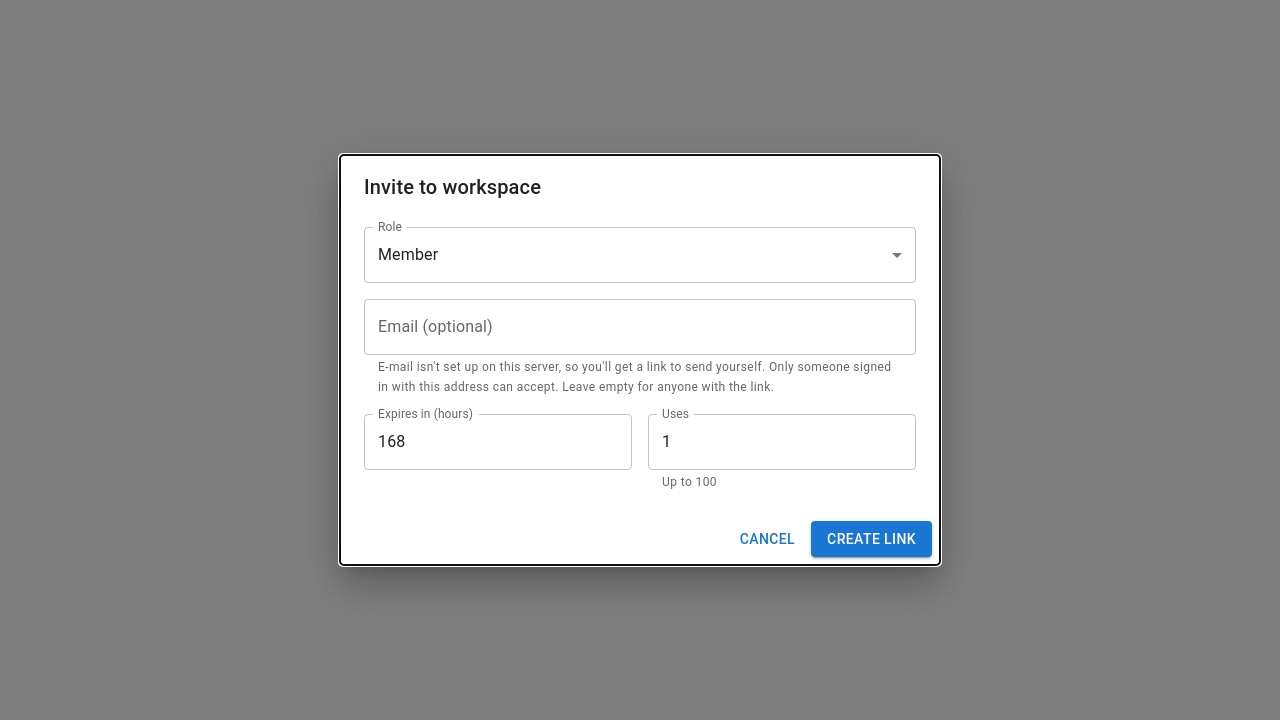
Test: CreateInvitationDialog › says nothing was sent when the server has no mail, and shows the link
Type "bo@example.com" into the field labelled "Email (optional)" at (640, 327), box left=364, top=299, right=916, bottom=355
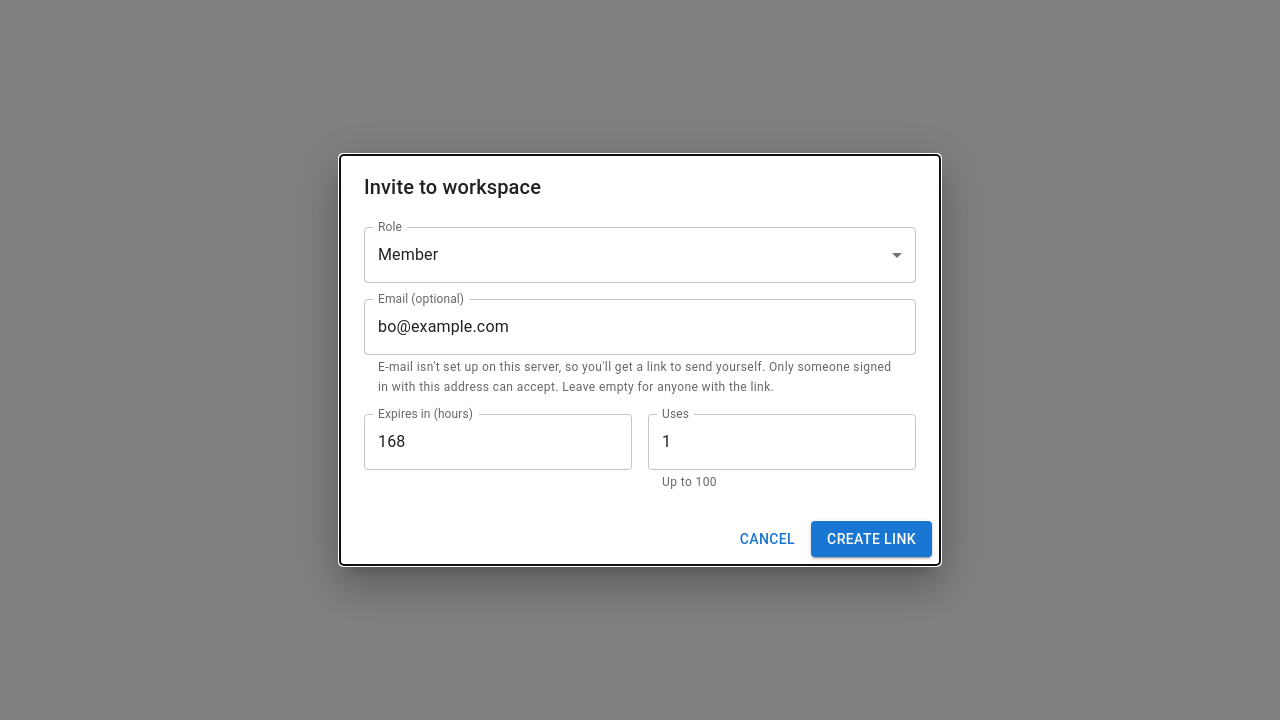
Click the button "Create link" at (872, 539), box left=811, top=521, right=932, bottom=557
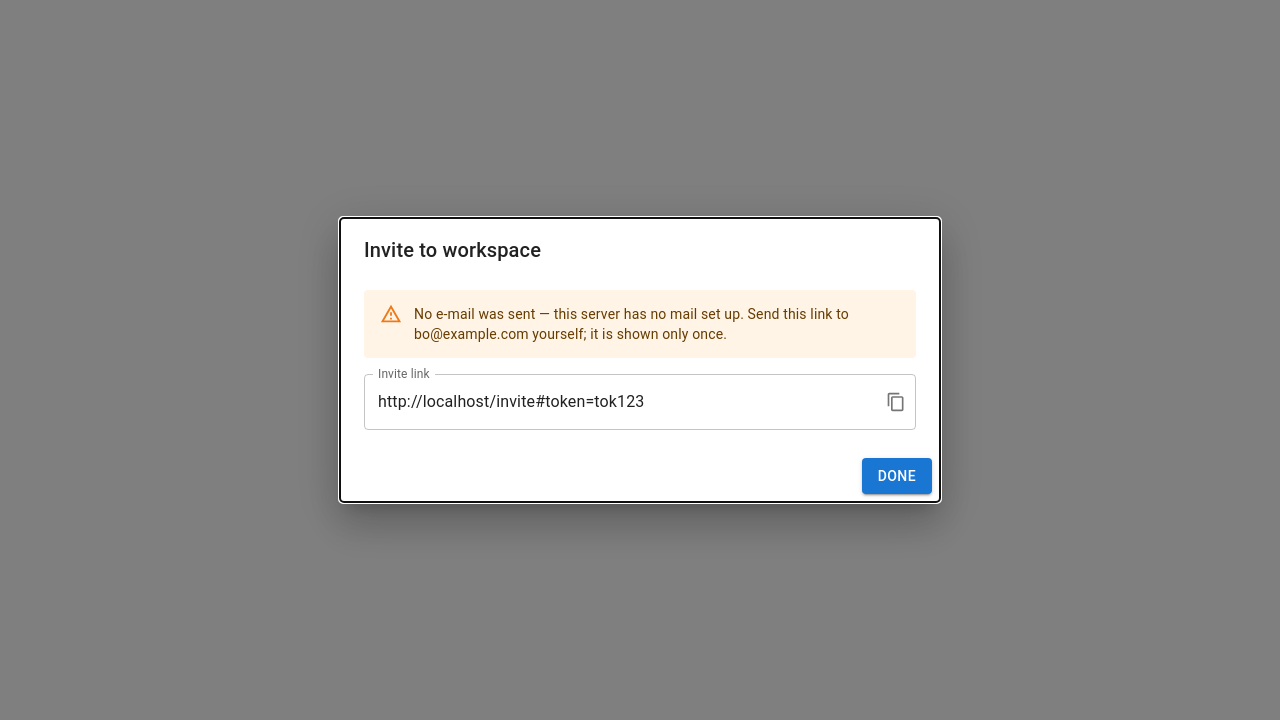
Expected: the text "No e-mail was sent" is shown, left=414, top=306, right=849, bottom=342
Expected: the field showing "/invite#token=tok123" is shown, left=364, top=374, right=870, bottom=430
